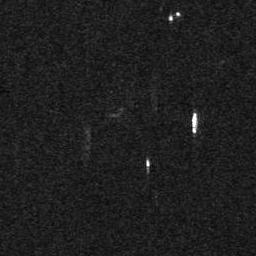ship: (191, 111, 199, 134), (145, 158, 152, 168)
